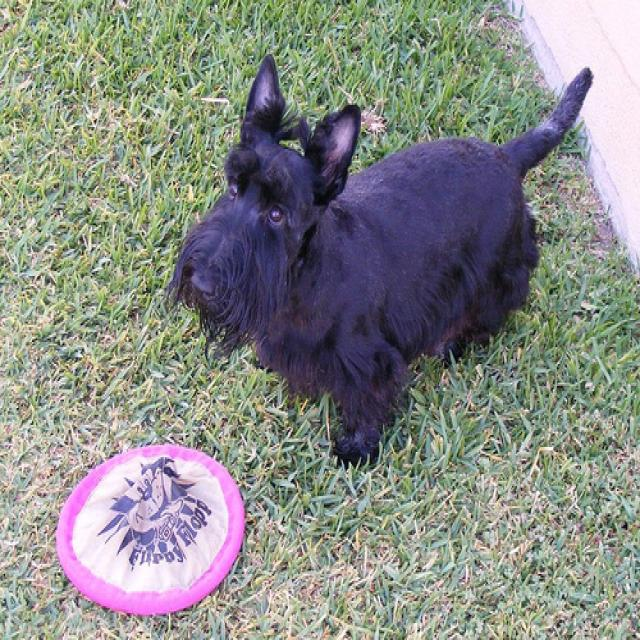dog-scottish_terrier: (166, 44, 604, 474)
